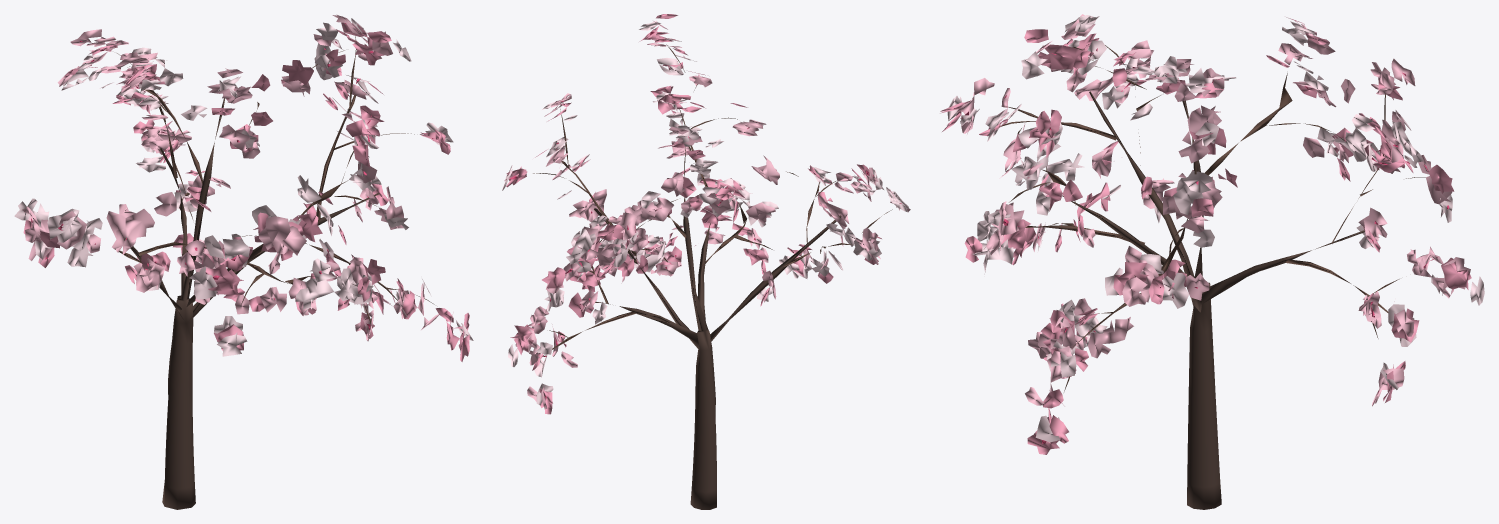
File: 11_2_mid.glb
3 renders of one model, left to right at view 1: azimuth 30°, elevation 25°; view 2: azimuth 150°, elevation 25°; view 3: azimuth 270°, elevation 25°, orthographic. The views are drawn at different scales.
Parts seen in each view (by area): view 1: body; view 2: body; view 3: body.
Boxes of the visible parts, left/top/right/bottom form: body: left=14, top=14, right=473, bottom=509; body: left=502, top=14, right=910, bottom=509; body: left=940, top=14, right=1484, bottom=509.
Size of the model in its own units: 2.08 by 2.23 by 2.06.
1 material, 1 textured.
